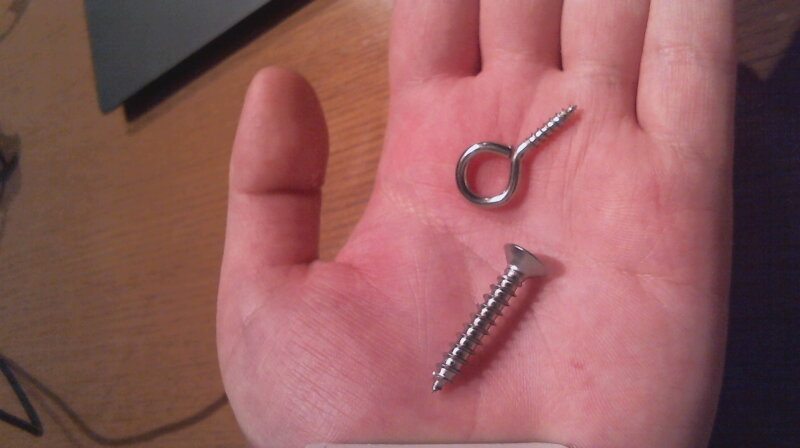O001: (450, 101, 584, 207)
S001: (423, 238, 553, 397)
